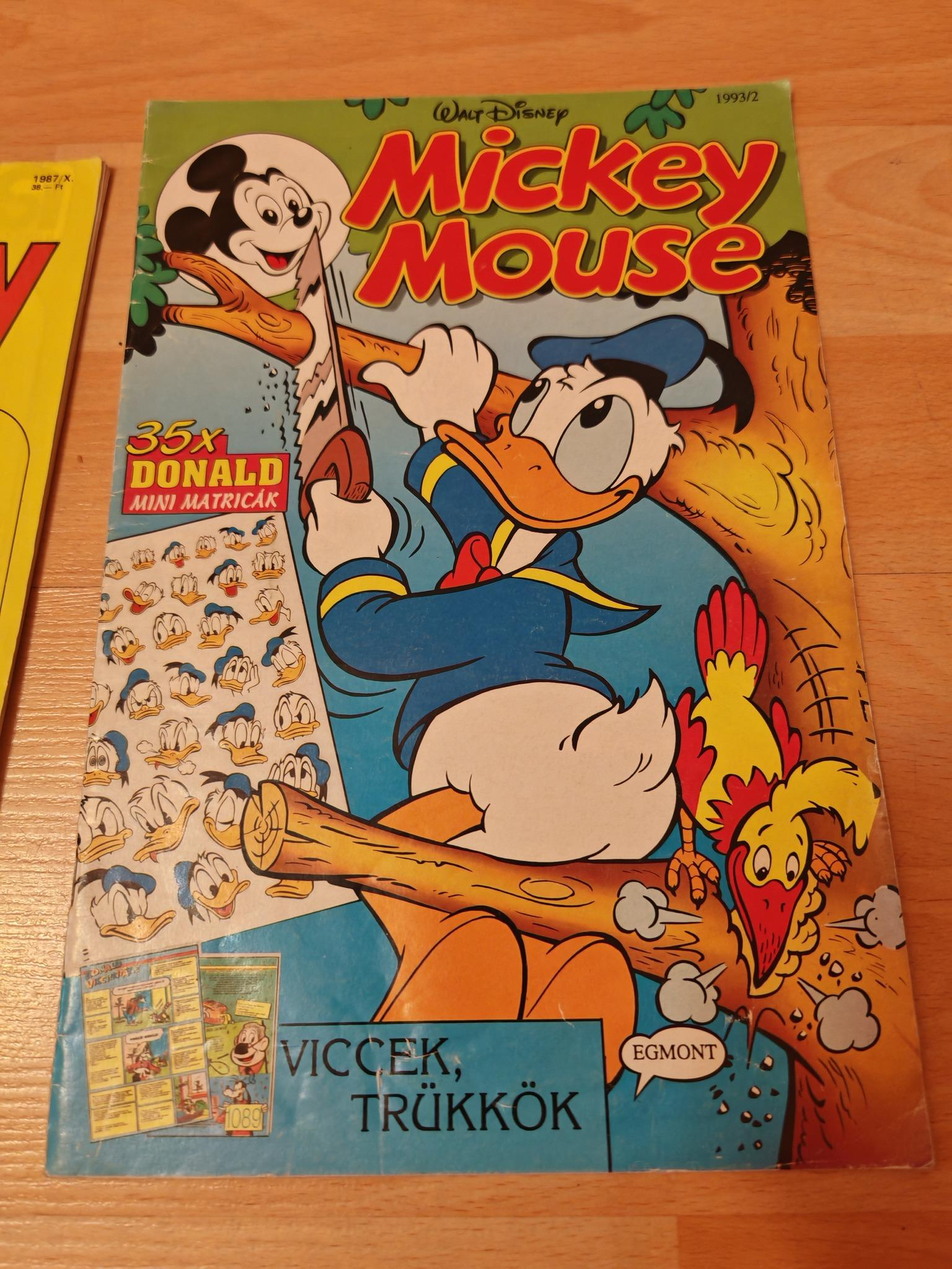comic: (17, 81, 931, 1191), (0, 159, 104, 718)
